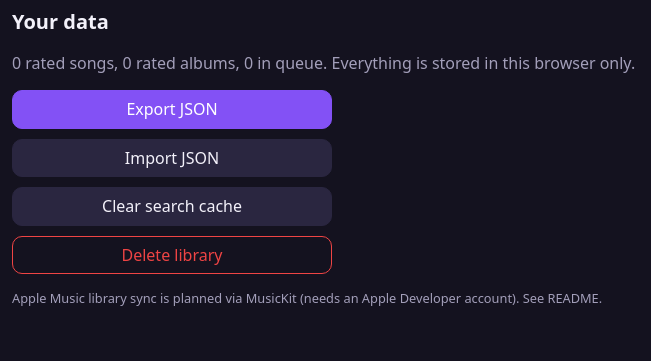
Scenario: DataView status region › keeps a polite status live region mounted, even before any message
Click the button "Clear search cache". click: (172, 206)
box: [12, 187, 332, 226]
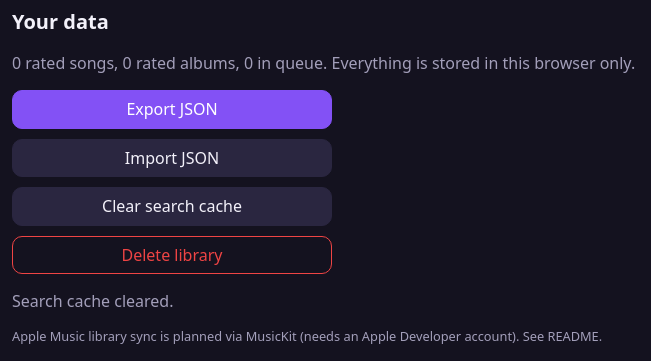
Expected: the message reads "Search cache cleared.", [12, 290, 174, 312]
